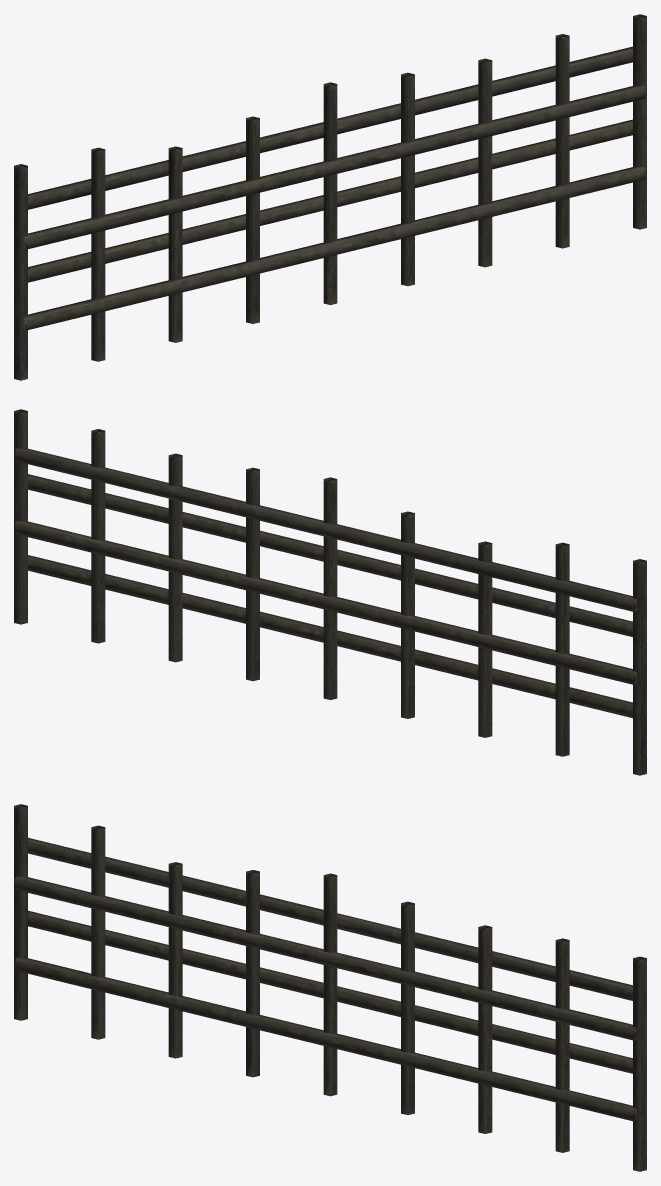
Rendered from fence_wood.glb.
3 renders of one model, top to bottom at view 1: azimuth 30°, elevation 25°; view 2: azimuth 150°, elevation 25°; view 3: azimuth 330°, elevation 25°, orthographic.
Visible parts, largest first — view 1: fence_wood; view 2: fence_wood; view 3: fence_wood.
Boxes of the visible parts, x1,y1,x2,y2 form: fence_wood: [14, 14, 646, 380]; fence_wood: [14, 409, 646, 775]; fence_wood: [14, 804, 646, 1171].
Bounding box in the file's own units: 4.09 × 1.33 × 0.1341.
Materials: 1 (1 with a texture image).
